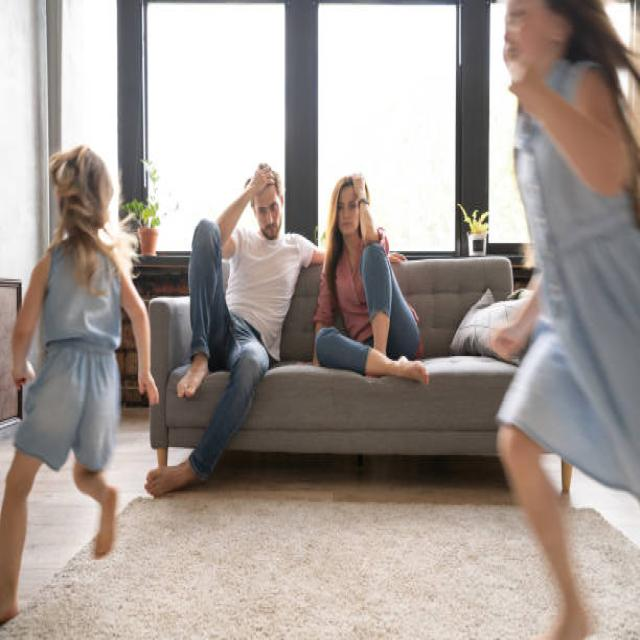Person: (498, 0, 640, 640), (0, 146, 160, 624), (144, 166, 323, 496), (314, 176, 428, 384)
